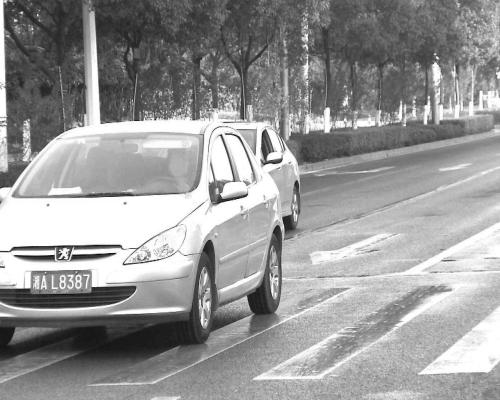Carplate: (28, 268, 94, 296)
